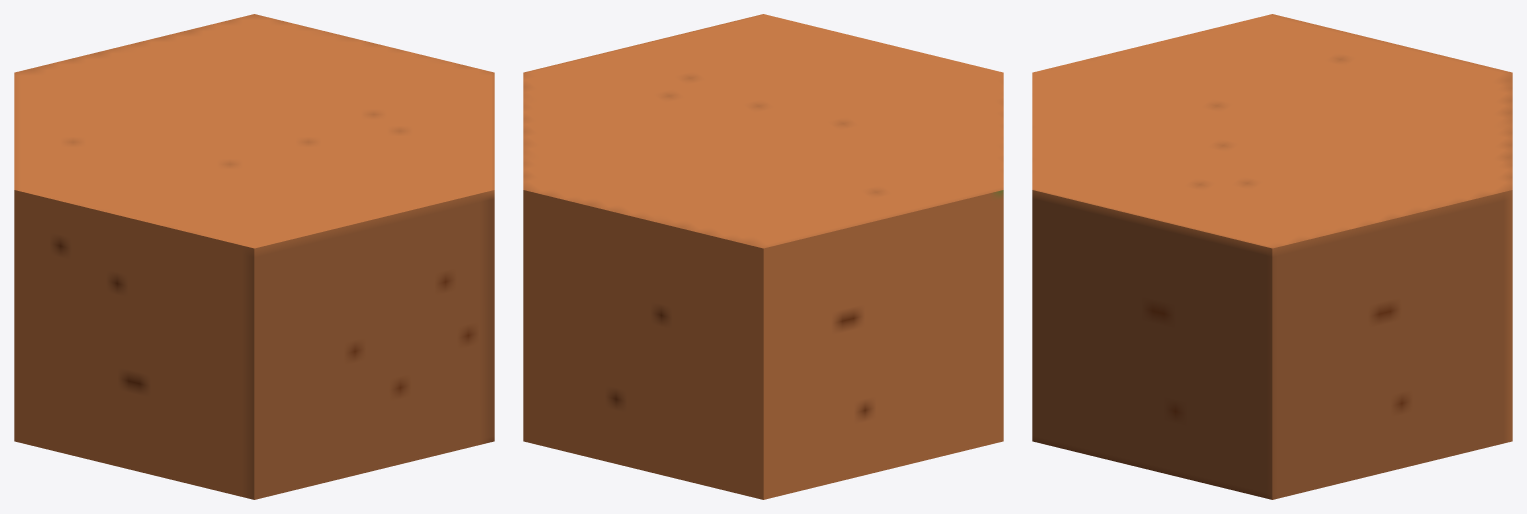
Rendered from groundMud.glb.
3 renders of one model, left to right at view 1: azimuth 30°, elevation 25°; view 2: azimuth 150°, elevation 25°; view 3: azimuth 270°, elevation 25°, orthographic.
Parts seen in each view (by area): view 1: groundMud; view 2: groundMud; view 3: groundMud.
Part boxes in pixels (left/top/right/bottom): groundMud: left=14, top=14, right=494, bottom=499; groundMud: left=523, top=14, right=1003, bottom=499; groundMud: left=1032, top=14, right=1512, bottom=499.
Size of the model in its own units: 1 by 0.5 by 0.866.
1 material, 1 textured.
